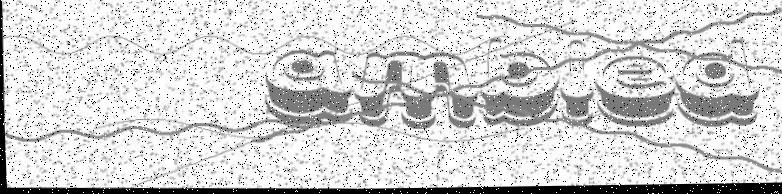a: (260, 47, 352, 127)
b: (475, 38, 560, 129)
d: (675, 39, 759, 130)
e: (591, 55, 677, 131)
l: (556, 40, 596, 129)
m: (349, 50, 478, 132)
